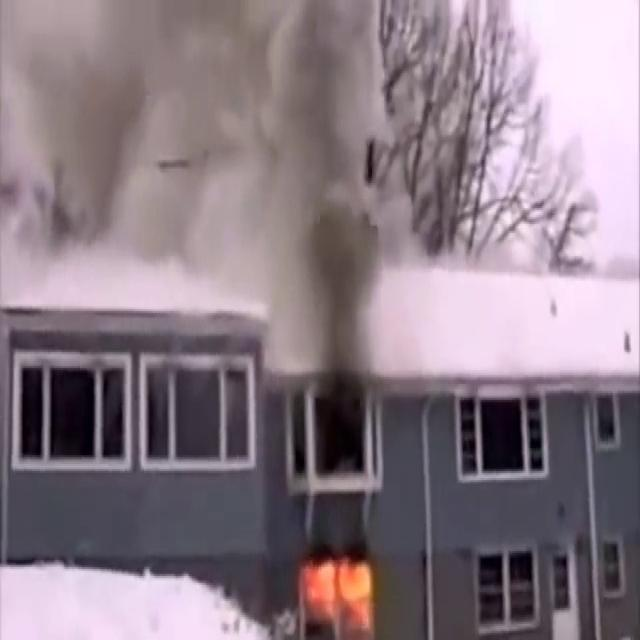Fire: (296, 536, 388, 636)
Smoke: (0, 1, 423, 316)
